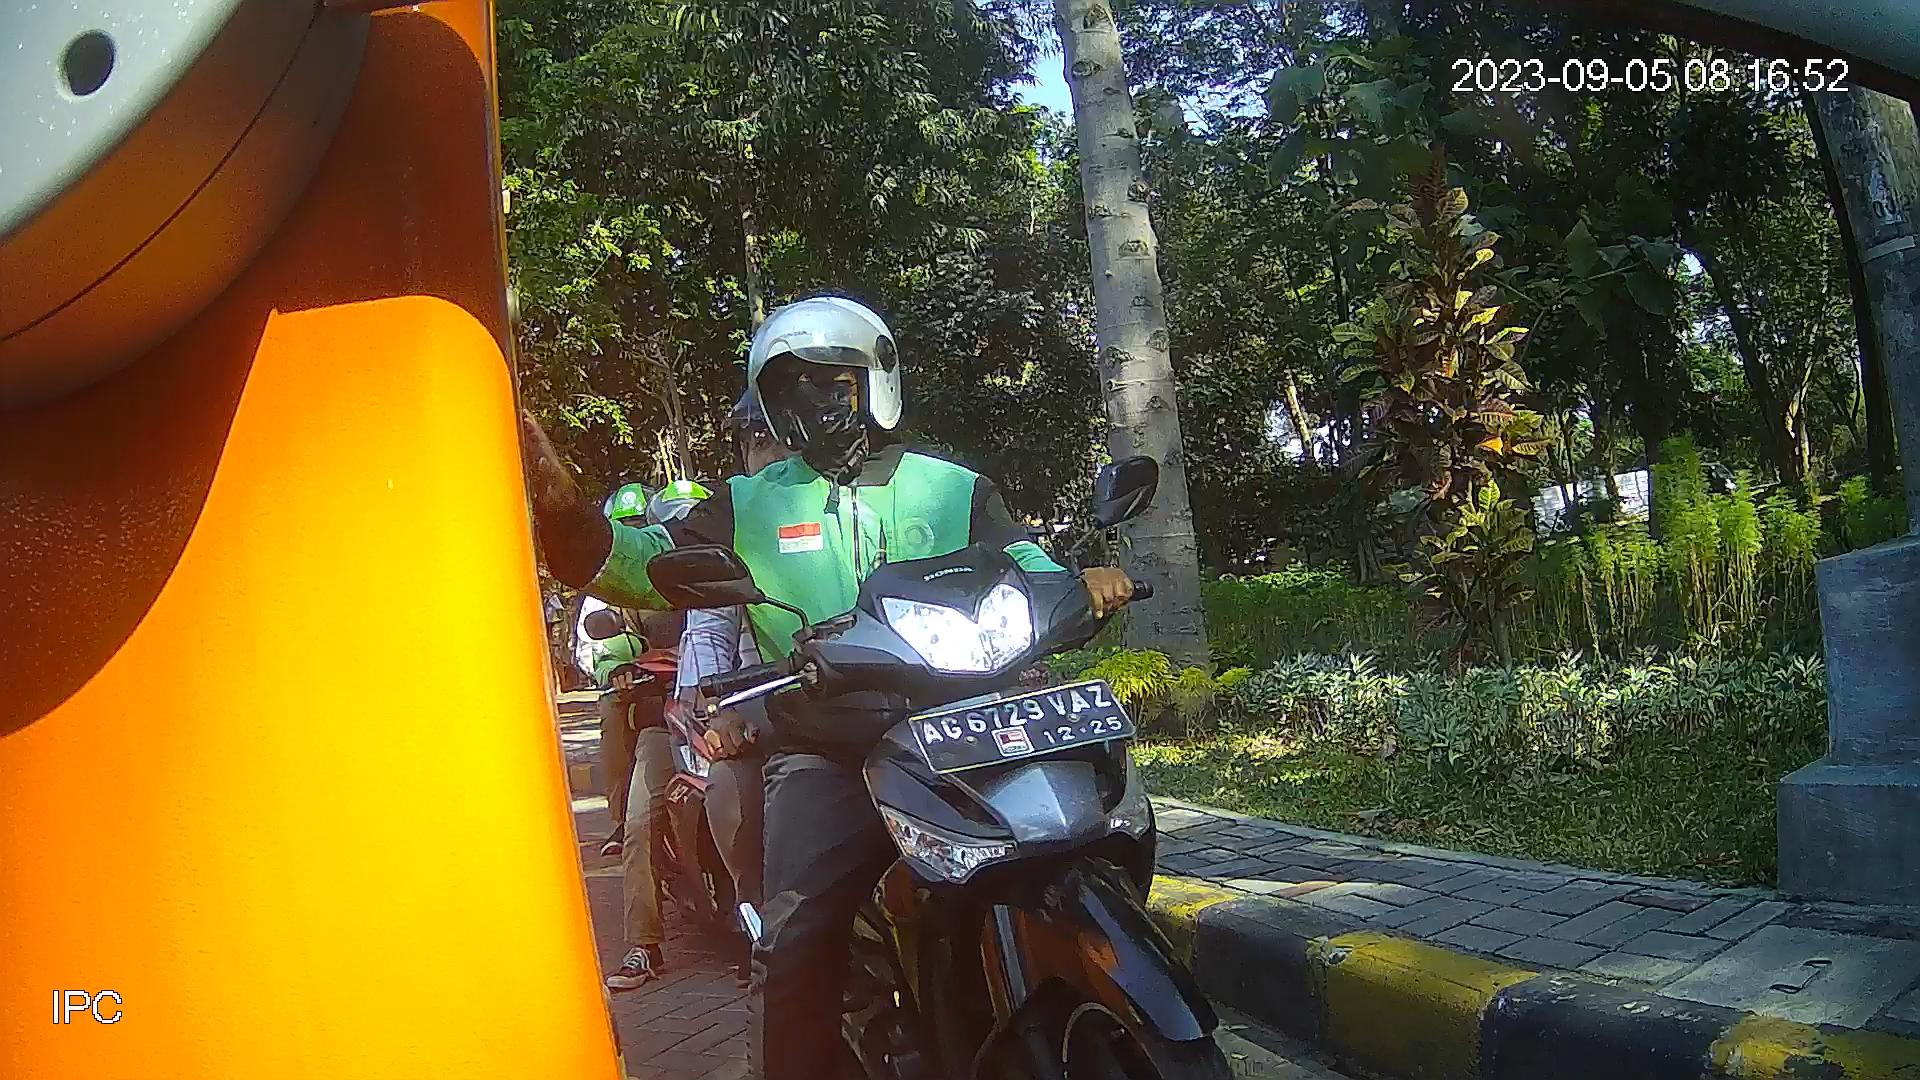plat: (909, 678, 1143, 775)
